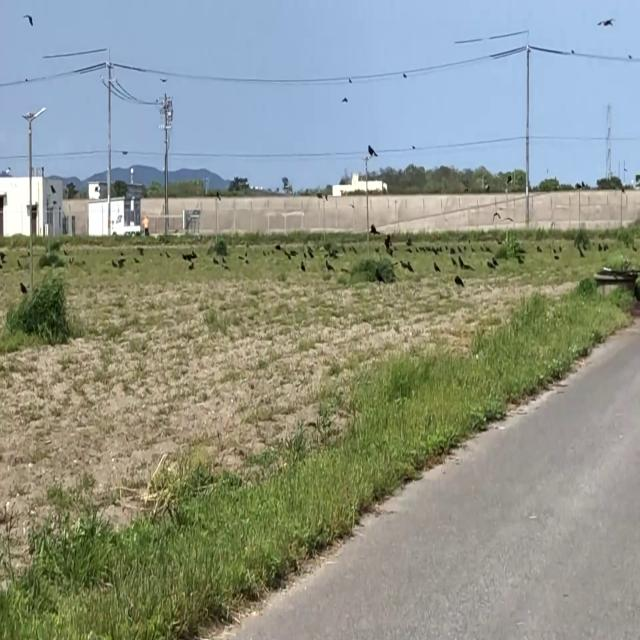bird: (600, 9, 614, 32), (367, 140, 377, 162), (26, 8, 33, 32), (342, 88, 349, 106), (457, 264, 463, 284), (492, 208, 499, 224), (458, 254, 463, 274), (434, 258, 438, 275), (488, 258, 492, 274), (599, 241, 603, 254)
